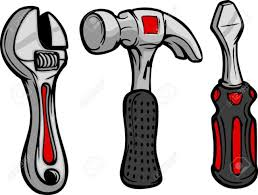wrench: (2, 6, 83, 195)
